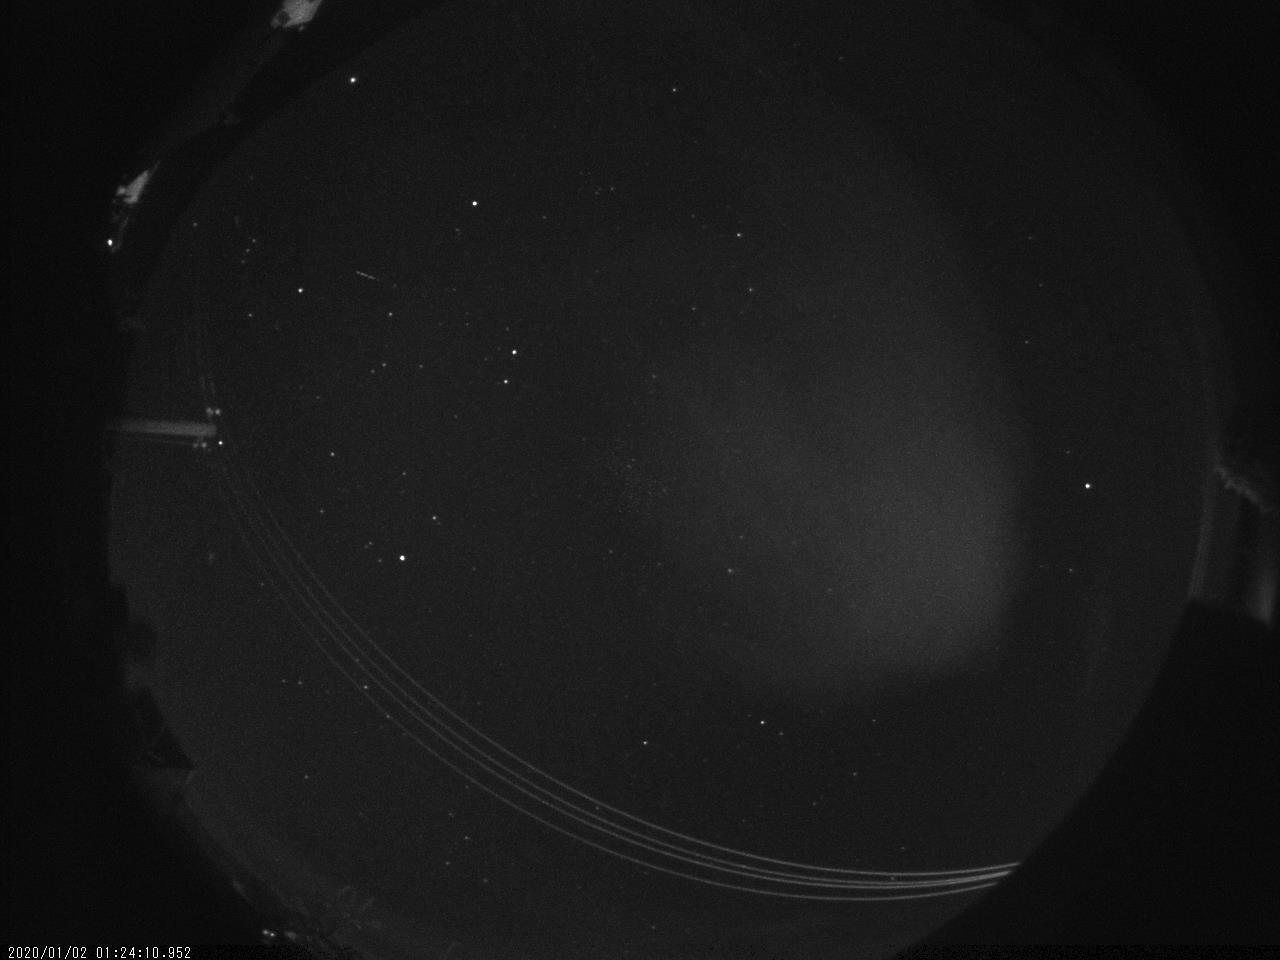Meteor: (351, 264, 384, 287)
